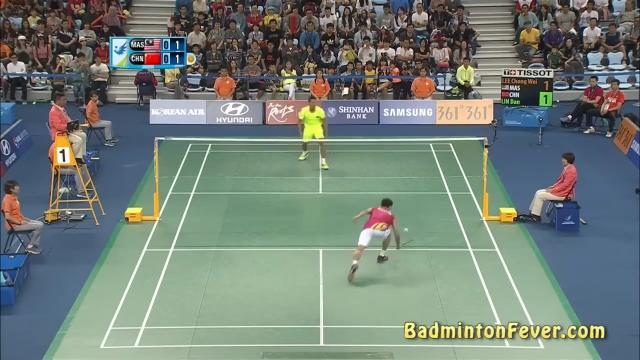Shuttlecock: (402, 226, 410, 233)
